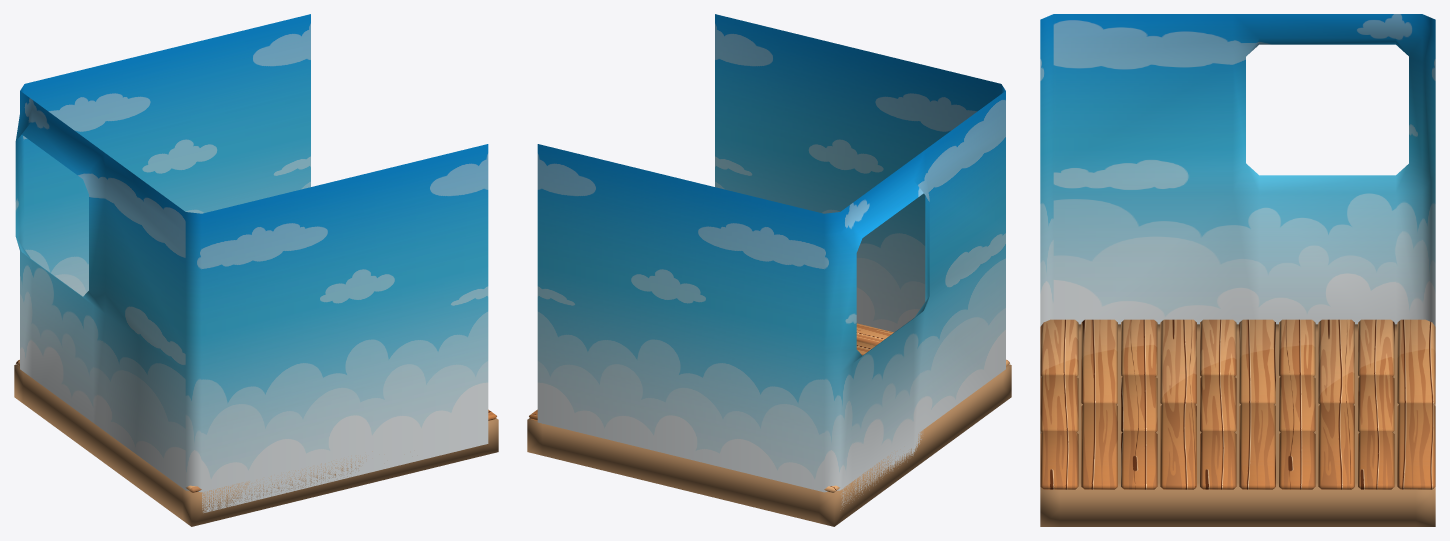
The model's file is habitacion.fbx.
3 renders of one model, left to right at view 1: azimuth 30°, elevation 25°; view 2: azimuth 150°, elevation 25°; view 3: azimuth 270°, elevation 25°, orthographic. The views are drawn at different scales.
Visible parts, largest first — view 1: Pared.002, Piso; view 2: Pared.002, Piso, Parquet; view 3: Pared.002, Parquet, Piso.
Boxes of the visible parts, <box> form: Pared.002: <box>15,14,488,512</box>; Piso: <box>14,364,498,526</box>; Pared.002: <box>537,14,1005,506</box>; Piso: <box>527,364,1011,526</box>; Parquet: <box>529,323,1009,492</box>; Pared.002: <box>1040,14,1435,326</box>; Parquet: <box>1040,319,1435,489</box>; Piso: <box>1040,324,1435,526</box>.
Bounding box in the file's own units: 293 × 274 × 283.
